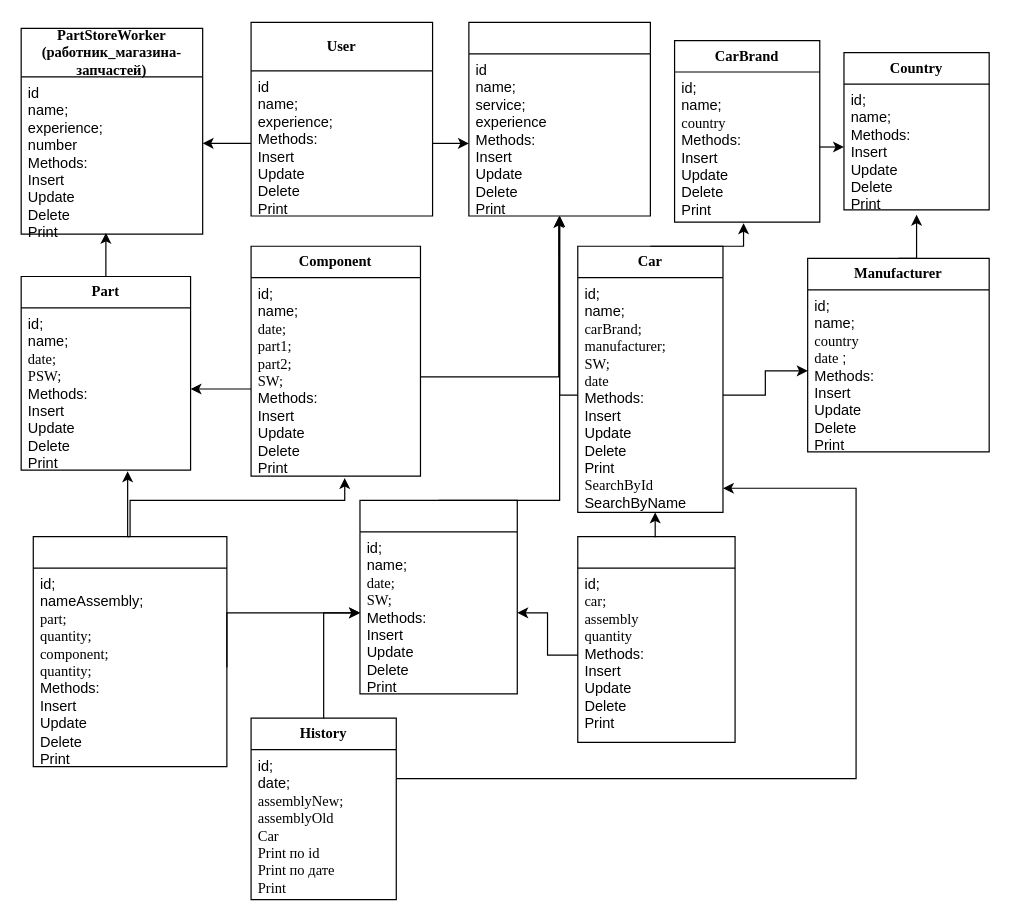
This 1010x924 diagram has some shape labels left out. Here are the shapes that lost their labels. From the top down, the box of each, then its label:
(468, 21, 650, 216): ServiceWorker (работник_автосервиса)
(359, 499, 517, 694): Assembly
(32, 535, 227, 767): MakeAssembly
(577, 535, 735, 742): MakeCar
